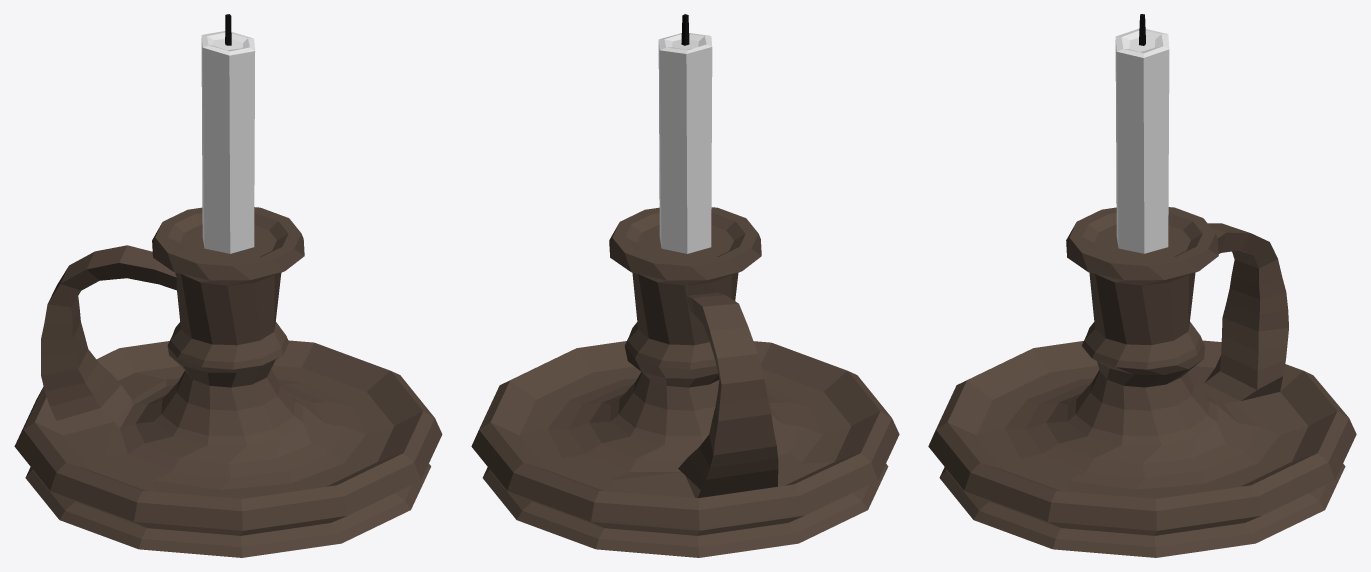
The model's file is OldCandle.fbx.
The picture shows the model from 3 angles, left to right: view 1: azimuth 30°, elevation 25°; view 2: azimuth 150°, elevation 25°; view 3: azimuth 270°, elevation 25°; orthographic projection.
Parts seen in each view (by area): view 1: Candle; view 2: Candle; view 3: Candle.
Boxes of the visible parts, x1,y1,x2,y2 form: Candle: [14, 14, 442, 557]; Candle: [471, 14, 899, 557]; Candle: [928, 14, 1356, 557].
Bounding box in the file's own units: 687 × 809 × 687.
